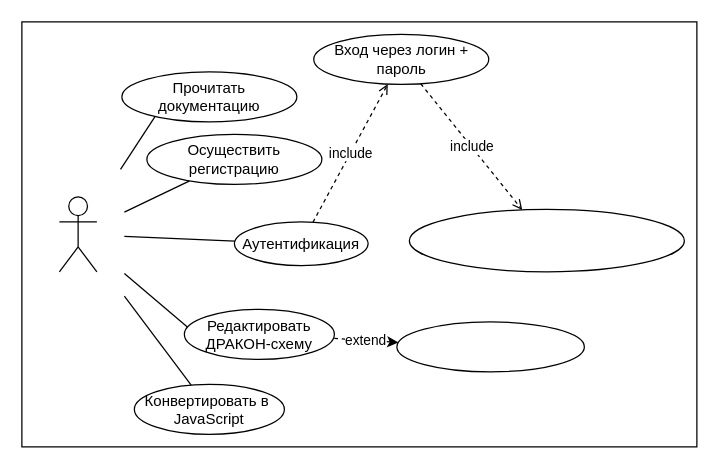
Some shapes in this 719 by 469 pixel diagram are drawn without their labels. Each missing label, with the centre of its shape:
"Получить JWT токен для доступа к защищённым путям" belongs at (546,240).
"Пользователь" belongs at (77,234).
"Сохранить/загрузить ДРАКОН-схему" belongs at (490,346).
